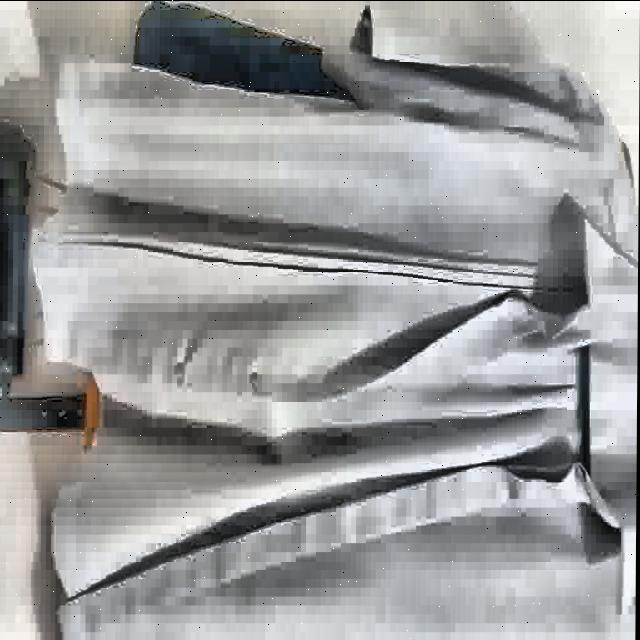clothes: (33, 13, 640, 633)
